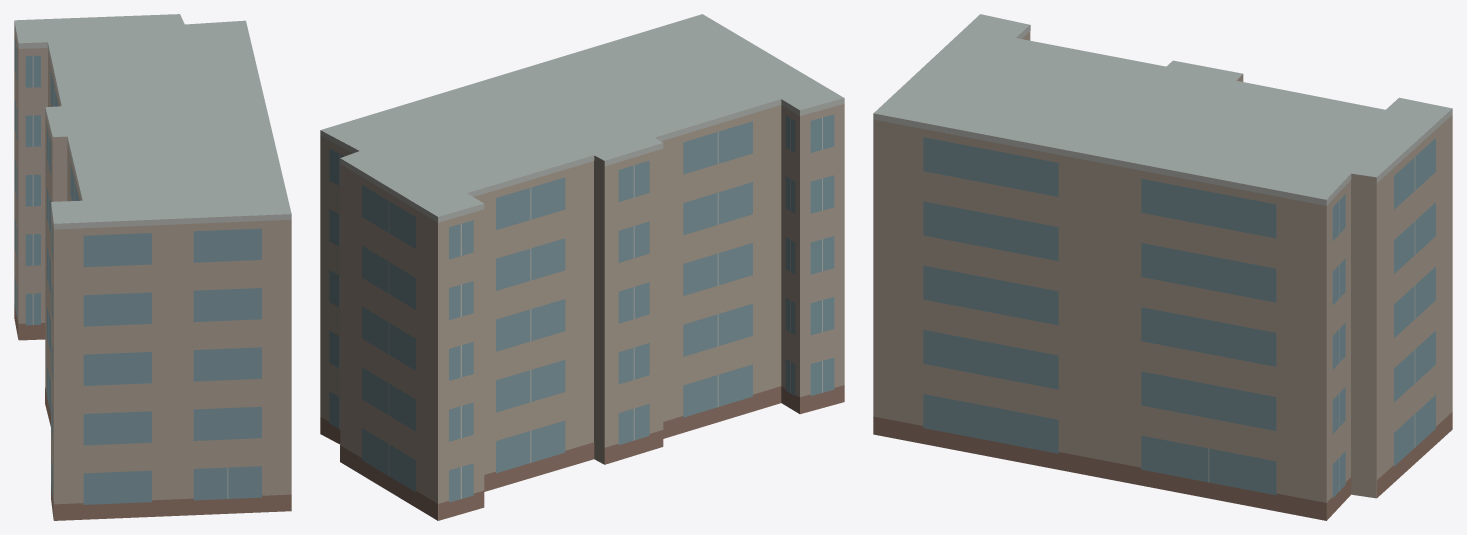
Rendered from survey-upis-32585734.glb.
3 renders of one model, left to right at view 1: azimuth 30°, elevation 25°; view 2: azimuth 150°, elevation 25°; view 3: azimuth 270°, elevation 25°, orthographic. The views are drawn at different scales.
Visible parts, largest first — view 1: survey-upis-32585734.tmp; view 2: survey-upis-32585734.tmp; view 3: survey-upis-32585734.tmp.
Boxes of the visible parts, bbox=[...] form: survey-upis-32585734.tmp: bbox=[14, 14, 291, 520]; survey-upis-32585734.tmp: bbox=[320, 14, 844, 520]; survey-upis-32585734.tmp: bbox=[873, 14, 1452, 520].
Bounding box in the file's own units: 16.02 × 12.9 × 21.1.
